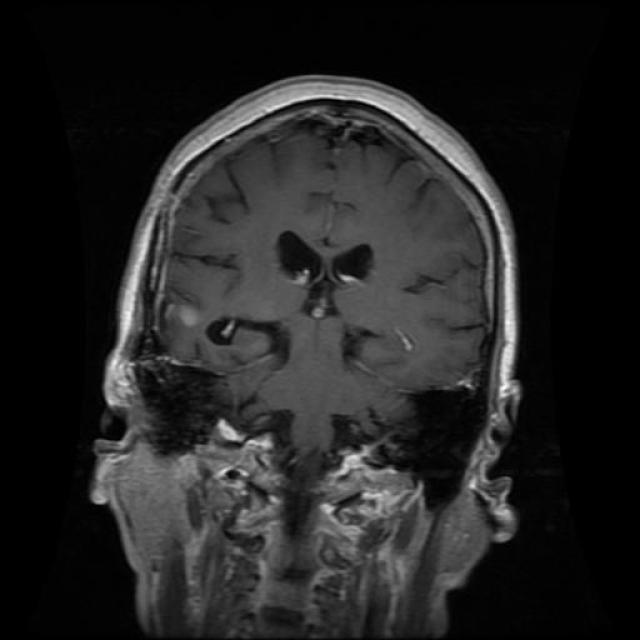glioma: (276, 226, 378, 326)
